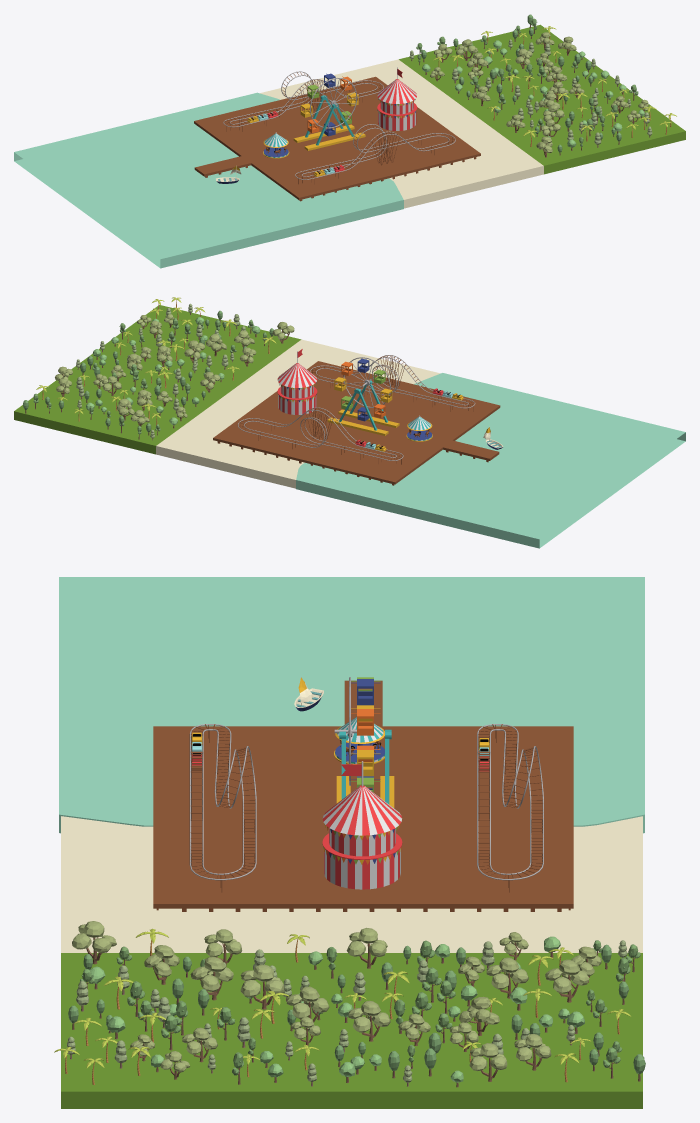
File: D4_PACIFIC_PARK.fbx
The picture shows the model from 3 angles, top to bottom: view 1: azimuth 30°, elevation 25°; view 2: azimuth 150°, elevation 25°; view 3: azimuth 270°, elevation 25°; orthographic projection. The views are drawn at different scales.
Visible parts, largest first — view 1: Cube.054, Cube.053, Cube.048, Cylinder.025, Cube.051, Cube.050, BezierCurve, BezierCurve.001, Cylinder.024, Cylinder.028, Cylinder.023; view 2: Cube.054, Cube.053, Cube.048, Cylinder.025, Cube.051, Cube.050, BezierCurve.001, BezierCurve, Cylinder.028, Cylinder.043, Cylinder.024; view 3: Cube.054, Cube.053, Cube.048, Cylinder.025, BezierCurve, Cylinder.043, Cylinder.023, BezierCurve.001, Cube.051, Cube.050, Tree_stem_01.161, Tree_stem_01.071 (+12 smaller).
Boxes of the visible parts, x1,y1,x2,y2 form: Cube.054: (14,92,403,268); Cube.053: (260,24,685,208); Cube.048: (194,76,480,200); Cylinder.025: (377,79,417,130); Cube.051: (300,73,358,136); Cube.050: (293,95,365,150); BezierCurve: (295,124,455,179); BezierCurve.001: (223,71,383,127); Cylinder.024: (310,78,357,128); Cylinder.028: (263,133,289,158); Cylinder.023: (296,124,454,179); Cube.054: (296,373,685,548); Cube.053: (14,305,440,488); Cube.048: (213,361,500,484); Cylinder.025: (277,363,317,414); Cube.051: (334,358,392,421); Cube.050: (327,380,399,435); BezierCurve.001: (237,407,403,460); BezierCurve: (309,355,475,408); Cylinder.028: (406,416,432,441); Cylinder.043: (238,407,402,460); Cylinder.024: (343,357,390,407); Cube.054: (59,577,644,833); Cube.053: (61,816,642,1108); Cube.048: (153,680,573,908); Cylinder.025: (322,785,402,889); BezierCurve: (189,724,256,880); Cylinder.043: (478,724,542,878); Cylinder.023: (190,724,255,878); BezierCurve.001: (477,724,543,880); Cube.051: (351,677,380,792); Cube.050: (336,729,394,807); Tree_stem_01.161: (240,964,284,1009); Tree_stem_01.071: (545,959,589,1002).
Size of the model in its own units: 20806 by 2900 by 10136.
Materials: 17 (5 with a texture image).
